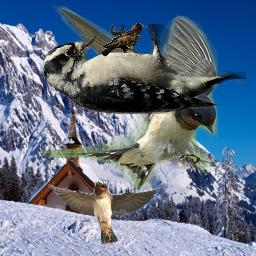Crow: (101, 22, 148, 58)
Swallow: (42, 4, 218, 190), (46, 180, 163, 245)
Woodpecker: (43, 24, 246, 114)
